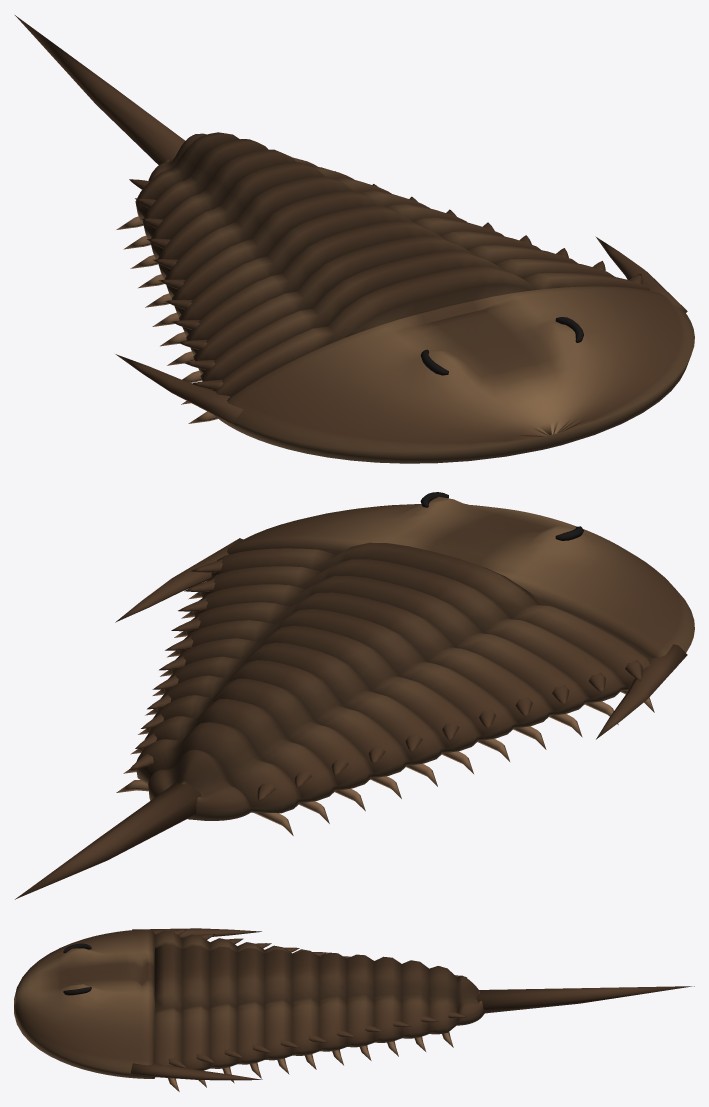
Rendered from TremaglaspisUnite.fbx.
3 renders of one model, top to bottom at view 1: azimuth 30°, elevation 25°; view 2: azimuth 150°, elevation 25°; view 3: azimuth 270°, elevation 25°, orthographic. The views are drawn at different scales.
Visible parts, largest first — view 1: TremaglaspisUnite; view 2: TremaglaspisUnite; view 3: TremaglaspisUnite.
Part boxes in pixels (box(x1,y1,x2,y2)): TremaglaspisUnite: box(15, 15, 694, 463); TremaglaspisUnite: box(15, 492, 694, 899); TremaglaspisUnite: box(14, 928, 694, 1091).
Size of the model in its own units: 0.9724 by 0.185 by 1.88.
